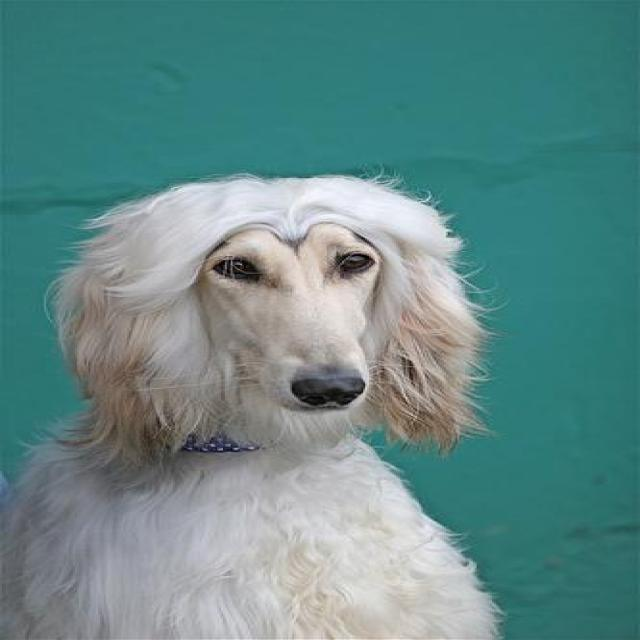afghan_hound: (2, 169, 503, 637)
